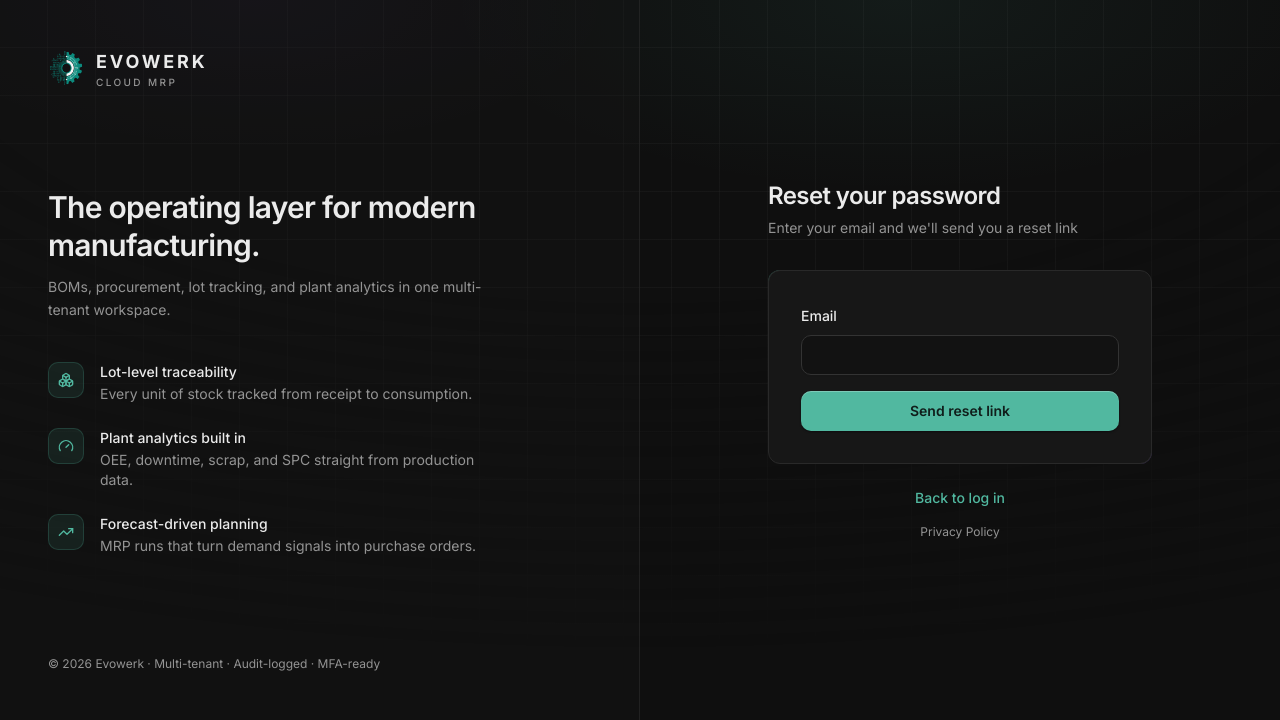
Test case: ForgotPassword › surfaces a network failure distinctly and keeps the form
In the field labelled "Email": (960, 355) [801,335,1119,375], type "test@example.com"
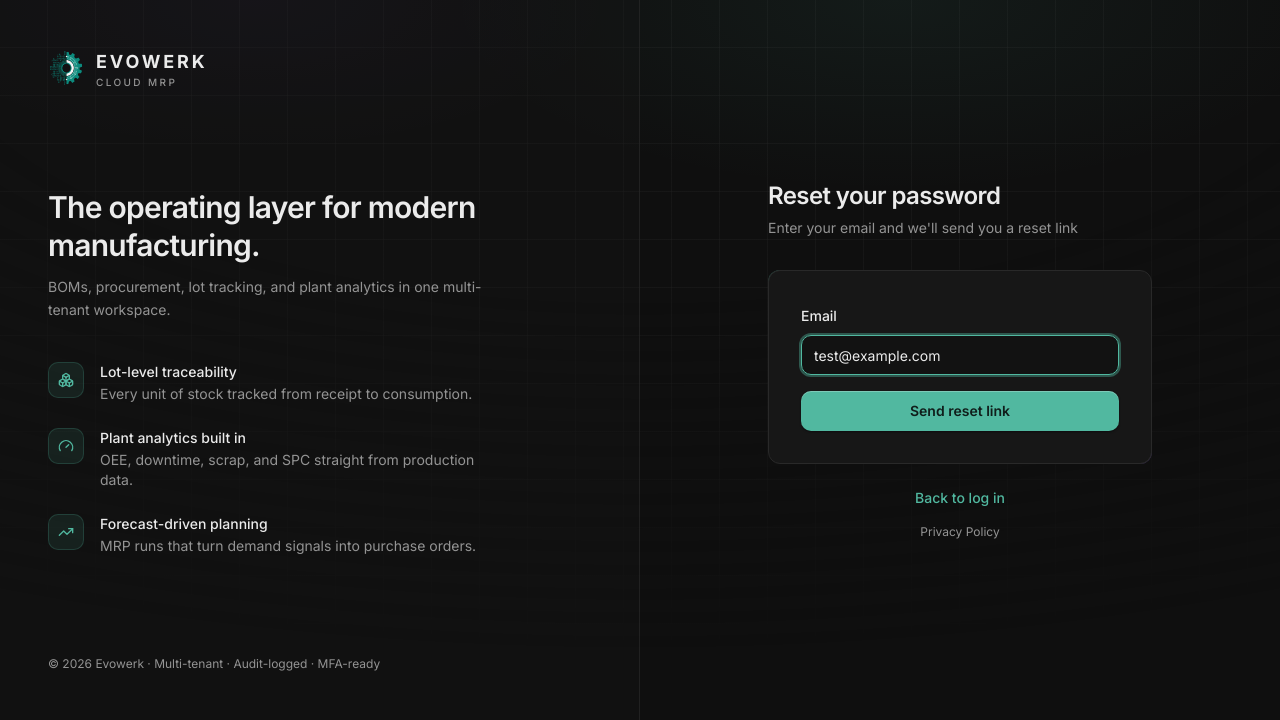
Click the button "Send reset link": (960, 411) [801,391,1119,431]
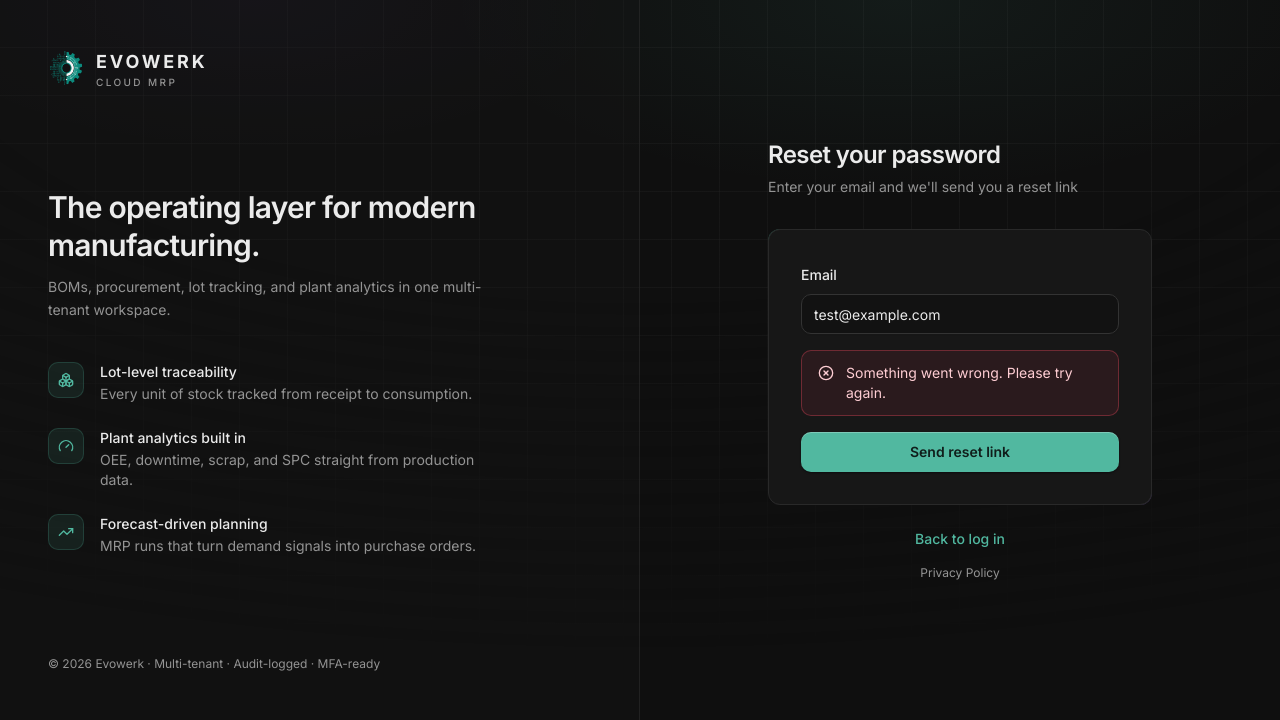
expect the message shows "Something went wrong": met, box [846,364,1073,401]
